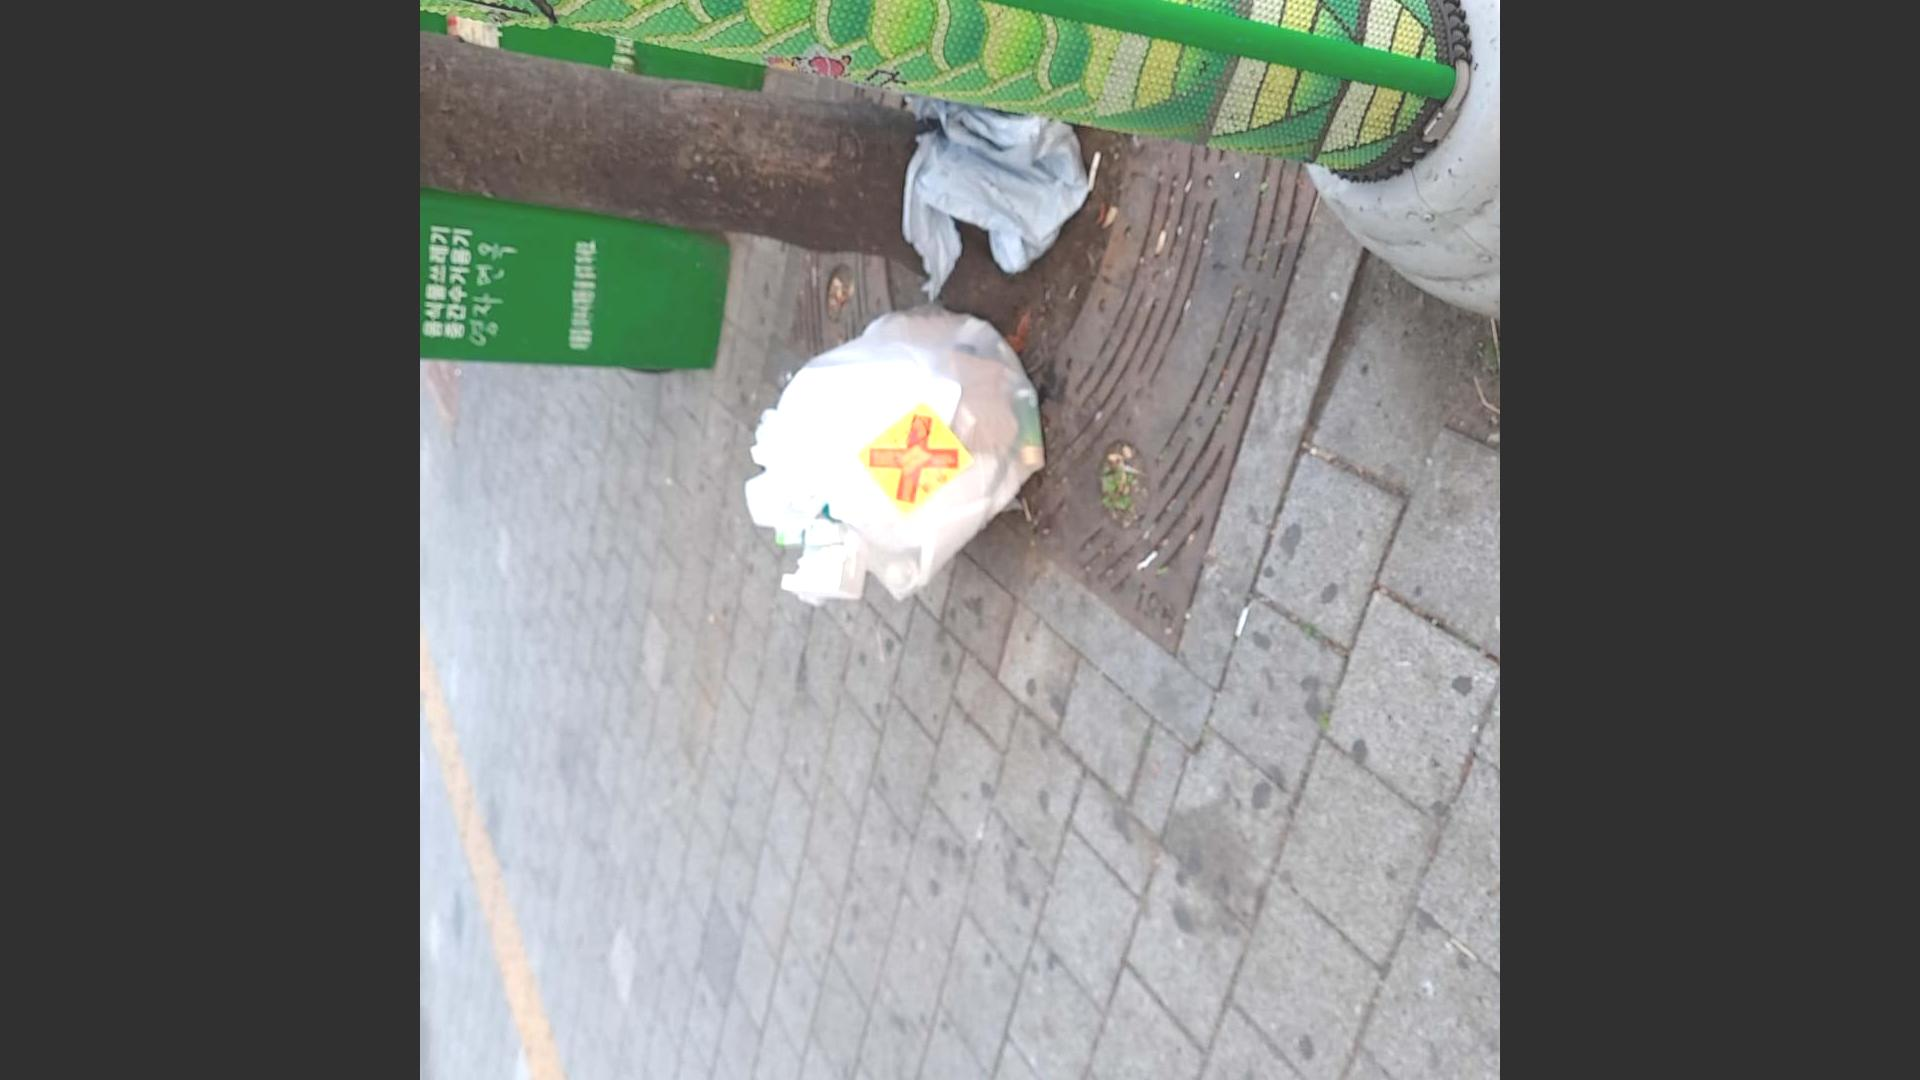white_bag: (733, 289, 1050, 633)
